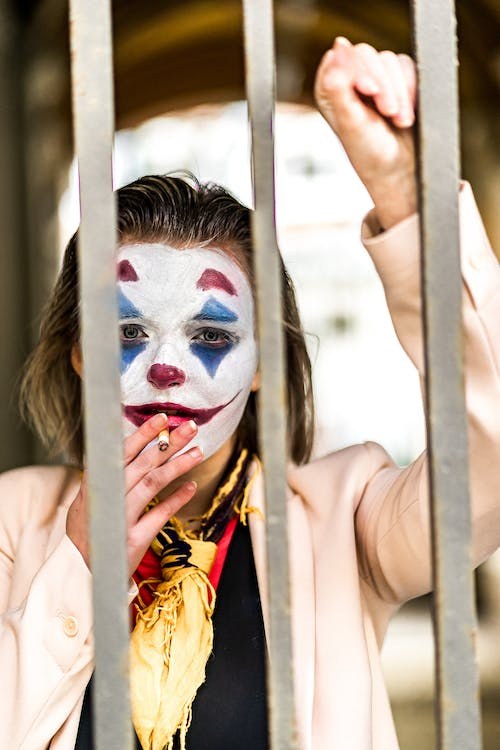cigarette: (156, 424, 172, 452)
